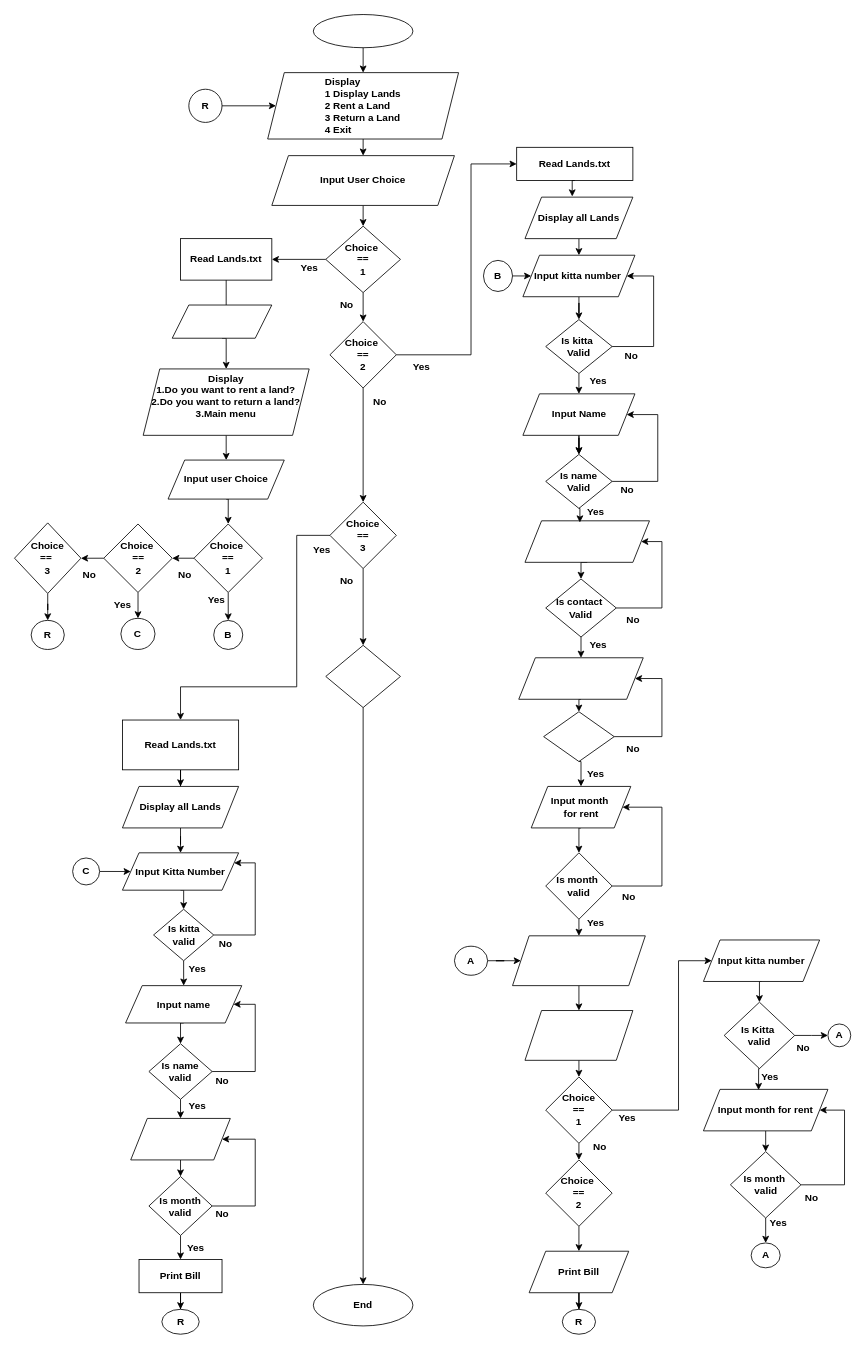
This 866x1349 diagram has some shape labels left out. The shapes that lost their labels are listed below. From the top down, each one's centre as x and y in pixels, then its label:
At point (362, 31): "Start".
At point (221, 321): "Display Lands".
At point (586, 541): "Input contact number".
At point (362, 676): "Choice == 4".
At point (580, 678): "Input Address".
At point (578, 736): "Is address Valid".
At point (578, 960): "Display 1.Do you want to rent another 2.Make a bill".
At point (578, 1035): "User Choice".
At point (180, 1139): "Input month of borrowed".
